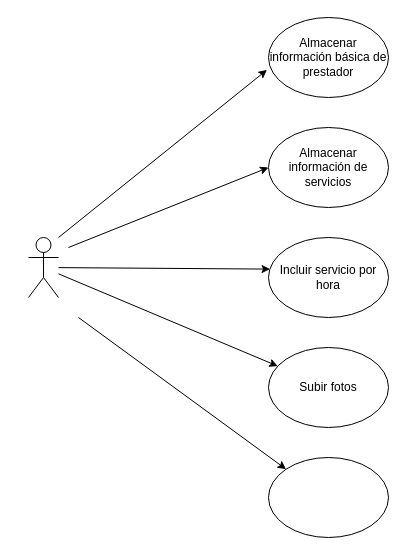
Some shapes in this 406 by 555 pixel diagram are drawn without their labels. Each missing label, with the centre of its shape:
"Prestador" goes at [43,267].
"Subir video" goes at [328,497].
